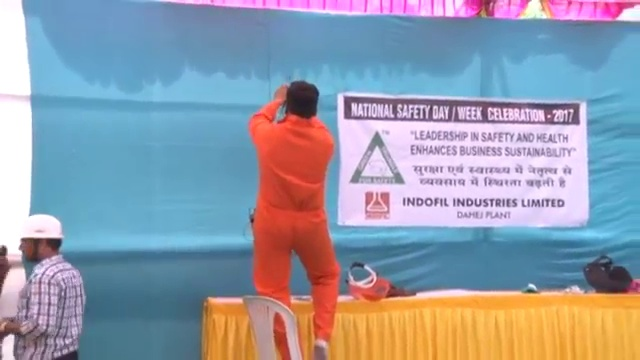helmet: (18, 210, 64, 242)
helmet_off: (284, 80, 321, 116)
helmet_on: (17, 213, 62, 264)
person: (246, 80, 343, 357), (1, 212, 88, 357)
